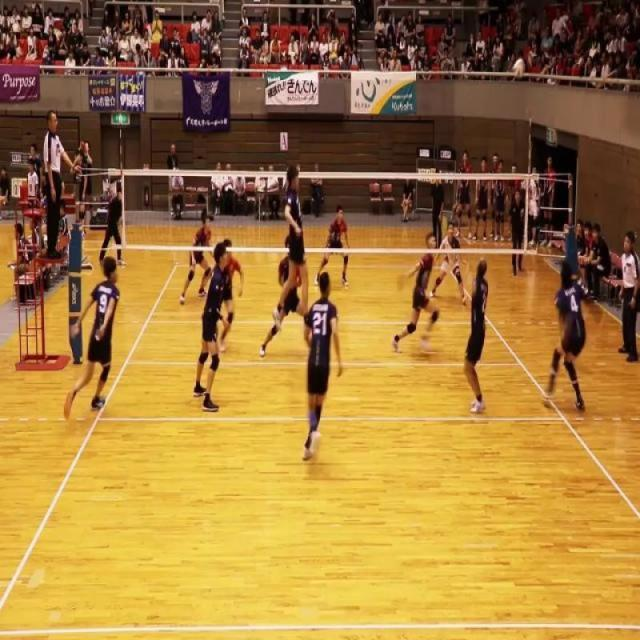volleyball: (513, 58, 525, 78)
